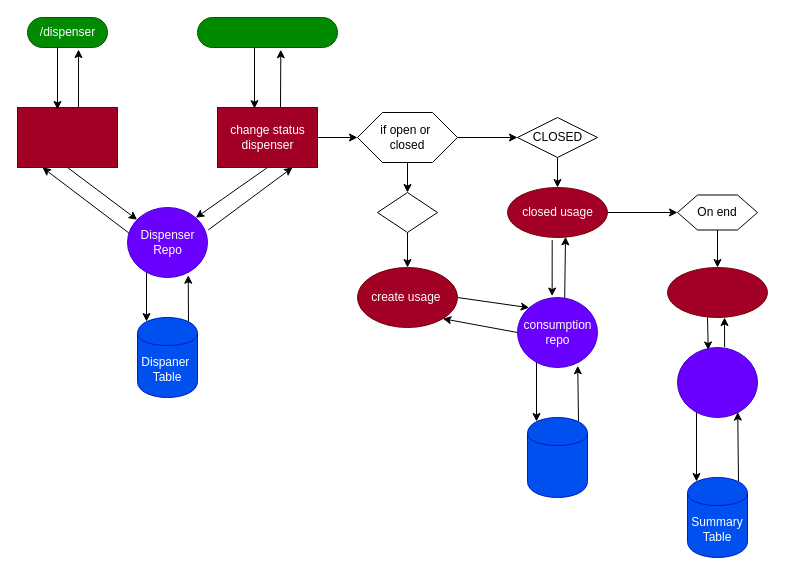
This 785x575 diagram has some shape labels left out. The shapes that lost their labels are listed below. From the top down, each one's centre as x and y in pixels, then its label:
At pixel 267 32: "/dispenser/{id}/status".
At pixel 67 137: "Create new dispenser".
At pixel 407 212: "OPEN".
At pixel 717 292: "Create or update Summary".
At pixel 717 382: "Summary repo".
At pixel 557 457: "Usage Table".
